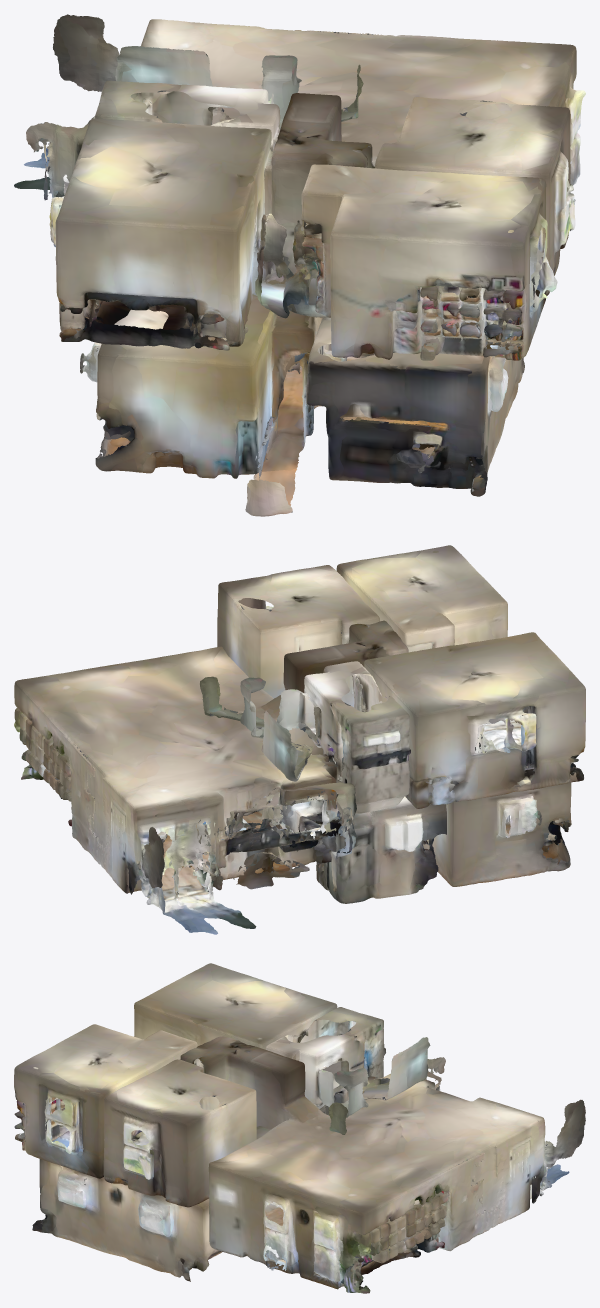
The model's file is scan-c8c04f4396aa.glb.
3 views of the same model, one above another, from view 1: azimuth 30°, elevation 25°; view 2: azimuth 150°, elevation 25°; view 3: azimuth 270°, elevation 25° (orthographic). The views are drawn at different scales.
Size of the model in its own units: 12.96 by 5.44 by 14.99.
1 material, 1 textured.
